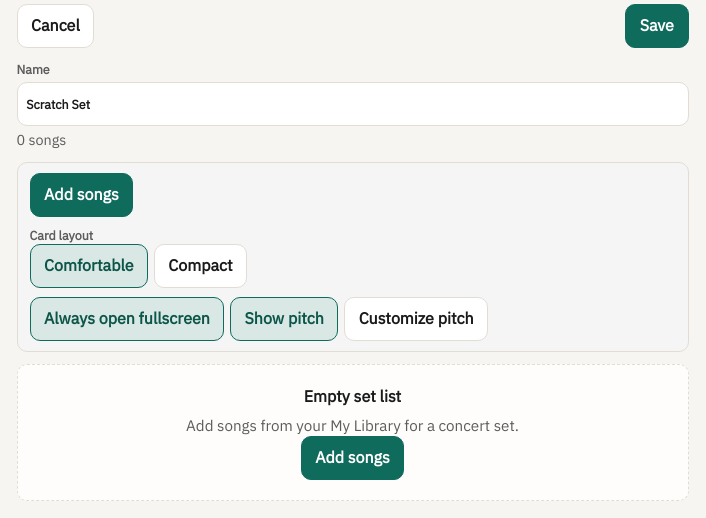
Test: LocalPlaylistView draft Cancel / Save › Save persists empty set list and clears draft
Step 1. Click the button "Save" → (657,26), box [625,4,688,48]
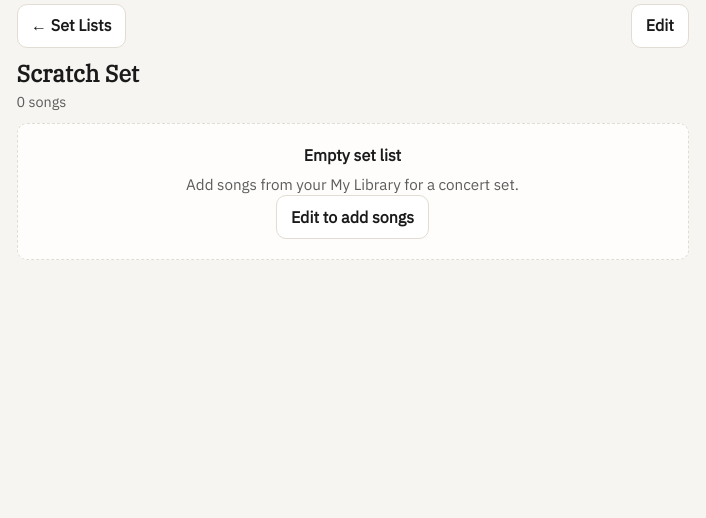
Check: the heading "Scratch Set" is shown, box [16,58,139,88]
